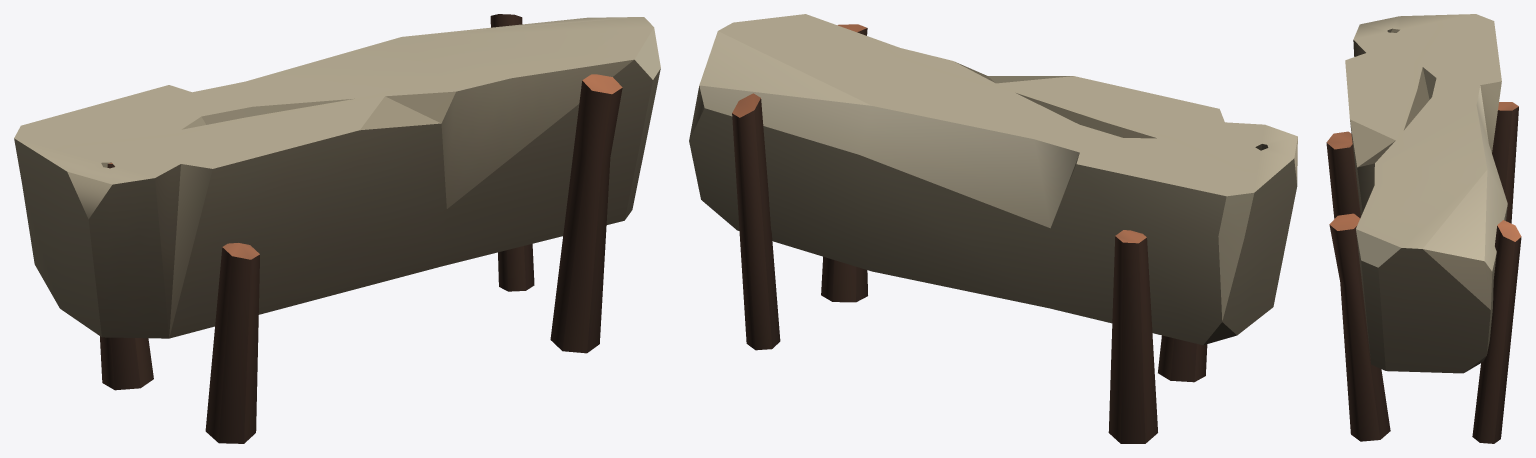
Rendered from Table_2A.fbx.
The picture shows the model from 3 angles, left to right: view 1: azimuth 30°, elevation 25°; view 2: azimuth 150°, elevation 25°; view 3: azimuth 270°, elevation 25°; orthographic projection. The views are drawn at different scales.
Parts seen in each view (by area): view 1: Table_2A; view 2: Table_2A; view 3: Table_2A.
Boxes of the visible parts, x1,y1,x2,y2 form: Table_2A: (14, 14, 660, 443); Table_2A: (689, 14, 1297, 443); Table_2A: (1326, 14, 1521, 443).
Size of the model in its own units: 1.86 by 0.8364 by 0.652.
